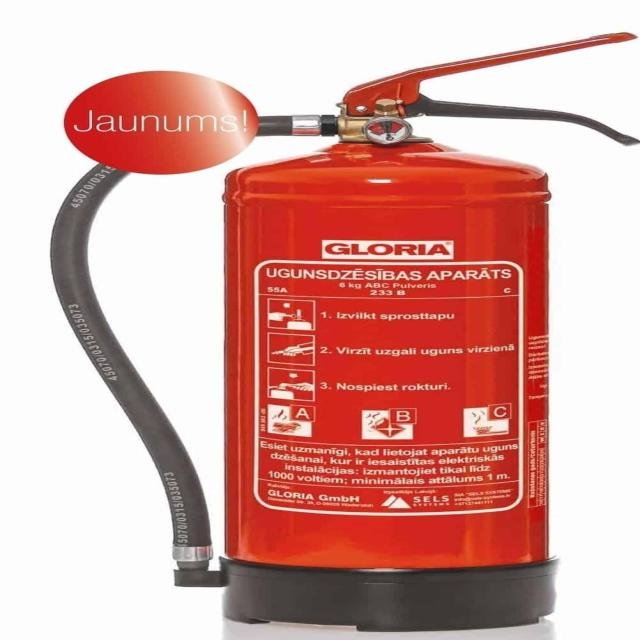fire_extinguisher: (32, 29, 640, 636)
